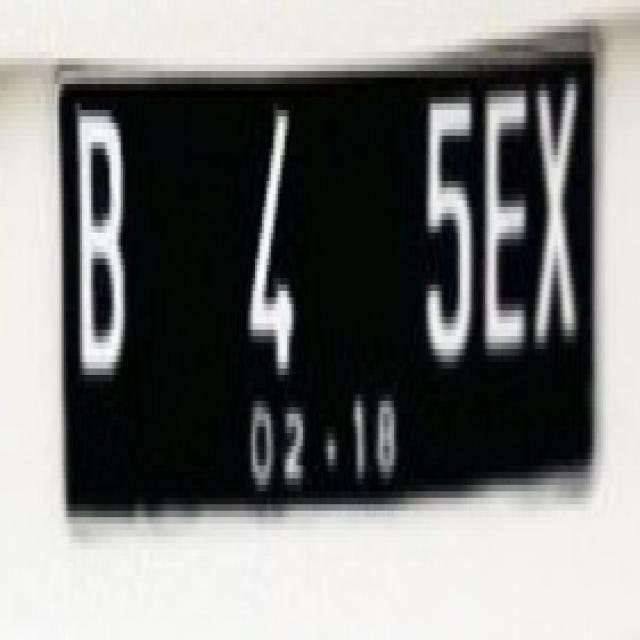LicensePlate: (45, 21, 612, 571)
